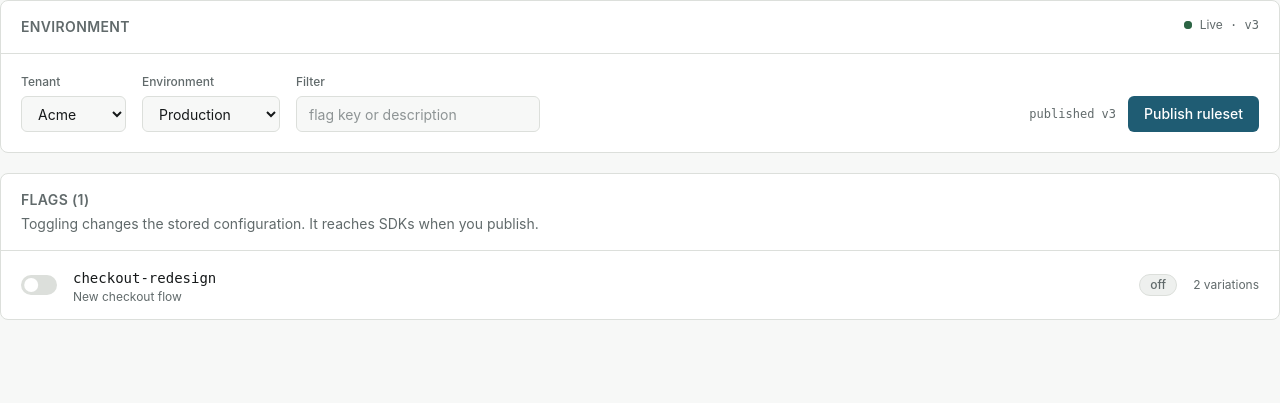
it: FlagList › reverts the toggle and surfaces the error when the write fails
Expected: the link "checkout-redesign" is shown, [73,270,216,286]
Click the switch named "toggle checkout-redesign" at (39, 285), box [21,275,57,295]
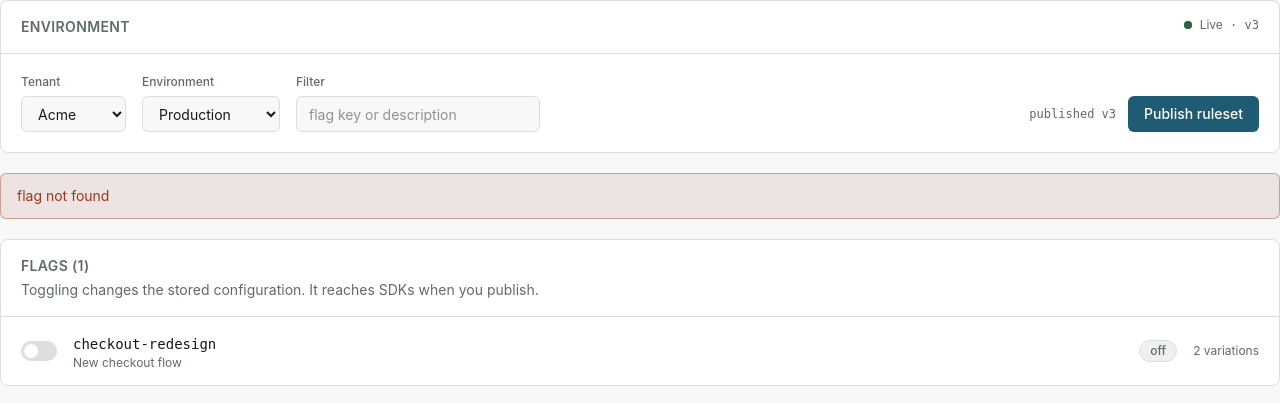
Expected: the text "flag not found" is shown, [0,173,1279,219]
